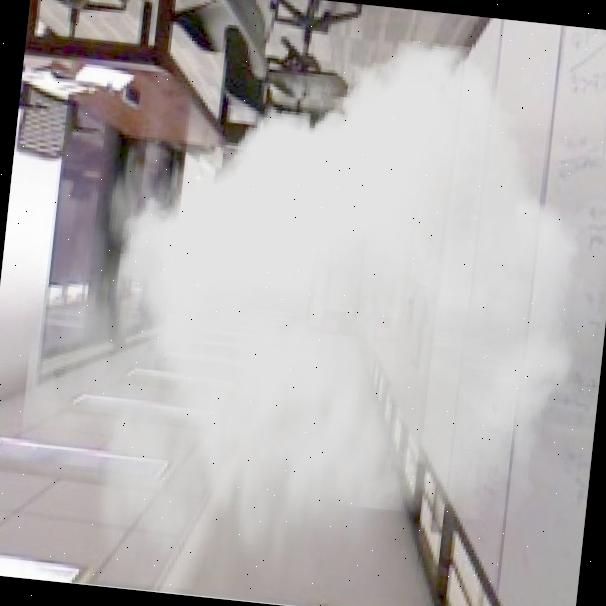smoke: (6, 5, 606, 606)
